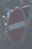No entry: (6, 6, 27, 44)
